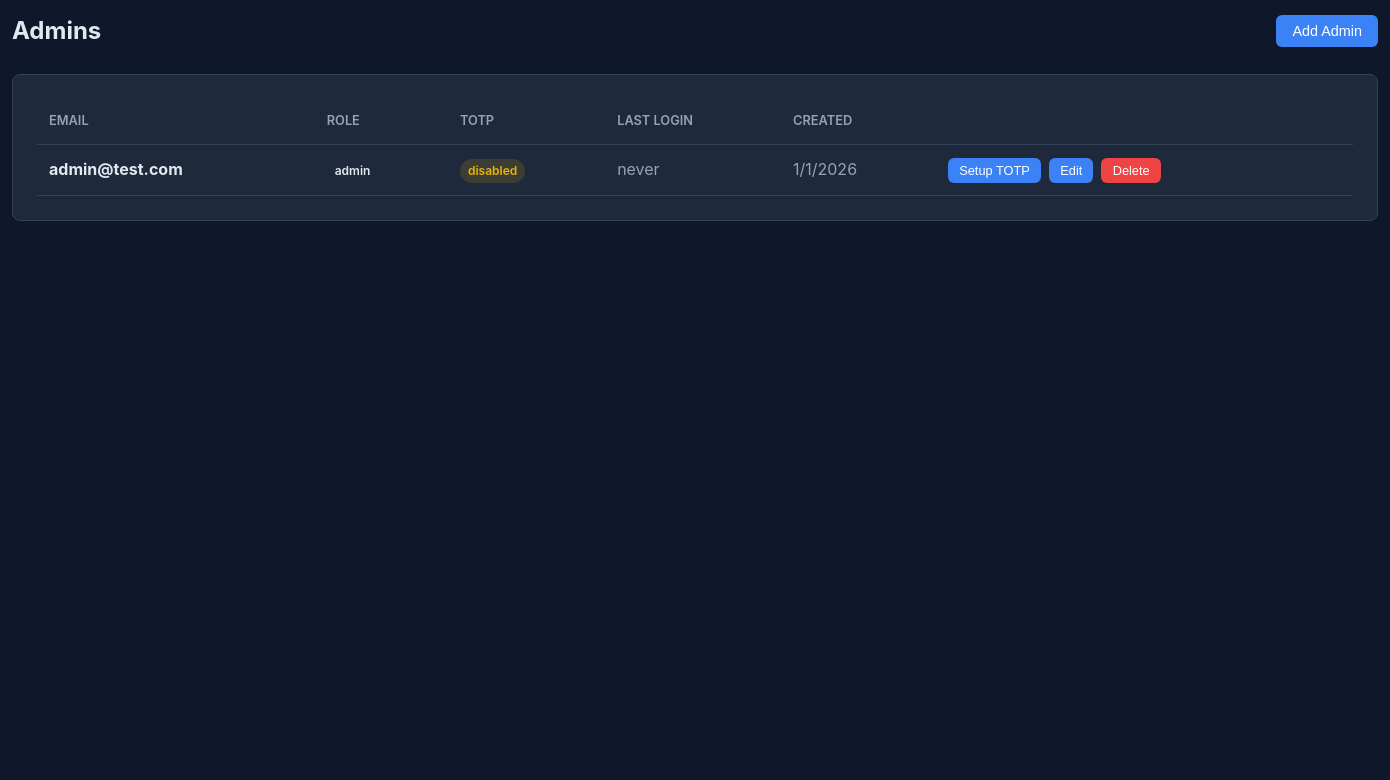
it: AdminsPage › copy button writes password to clipboard and shows feedback
Check: the text "admin@test.com" is shown, box [49,159,183,179]
Click the button "Edit": [1071, 170] box [1049,158,1093,183]
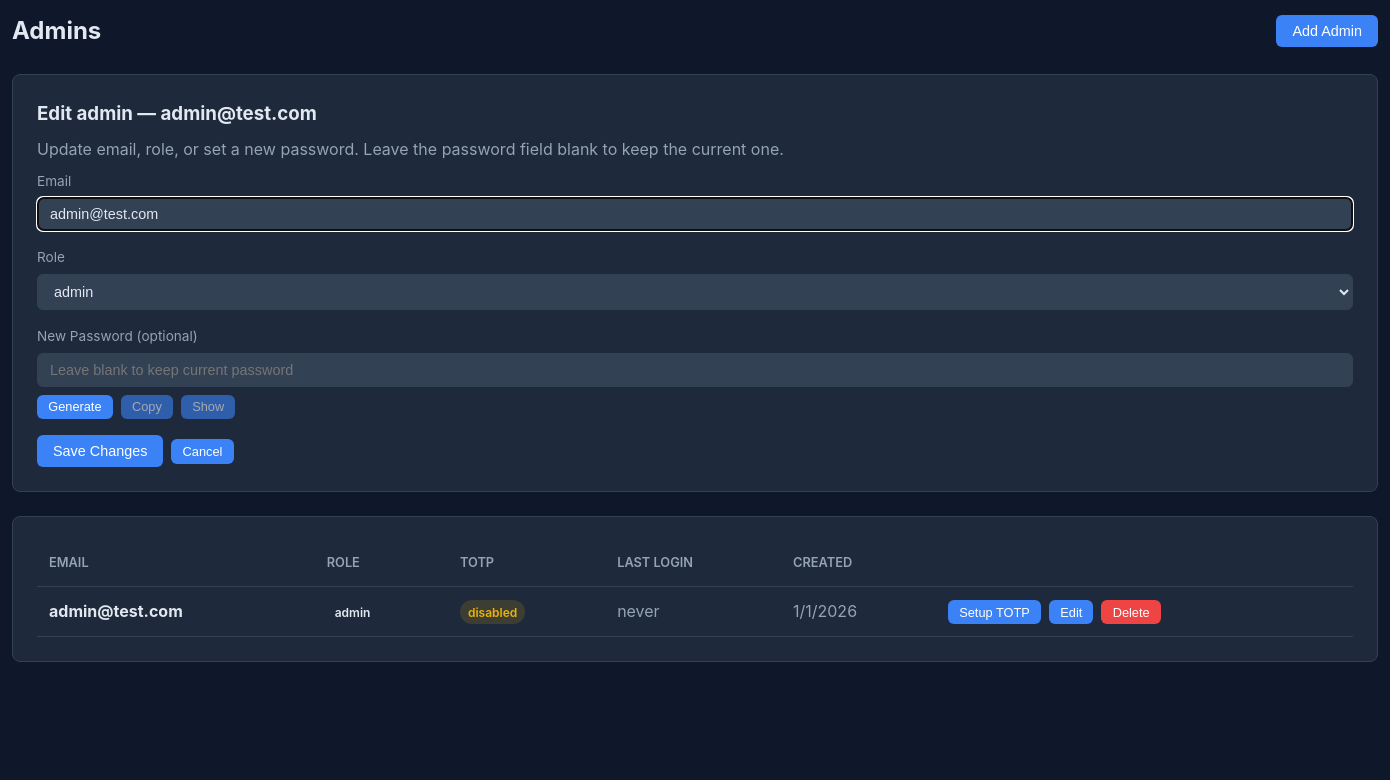
Click the button "Generate": [75, 407] box [37,395,113,419]
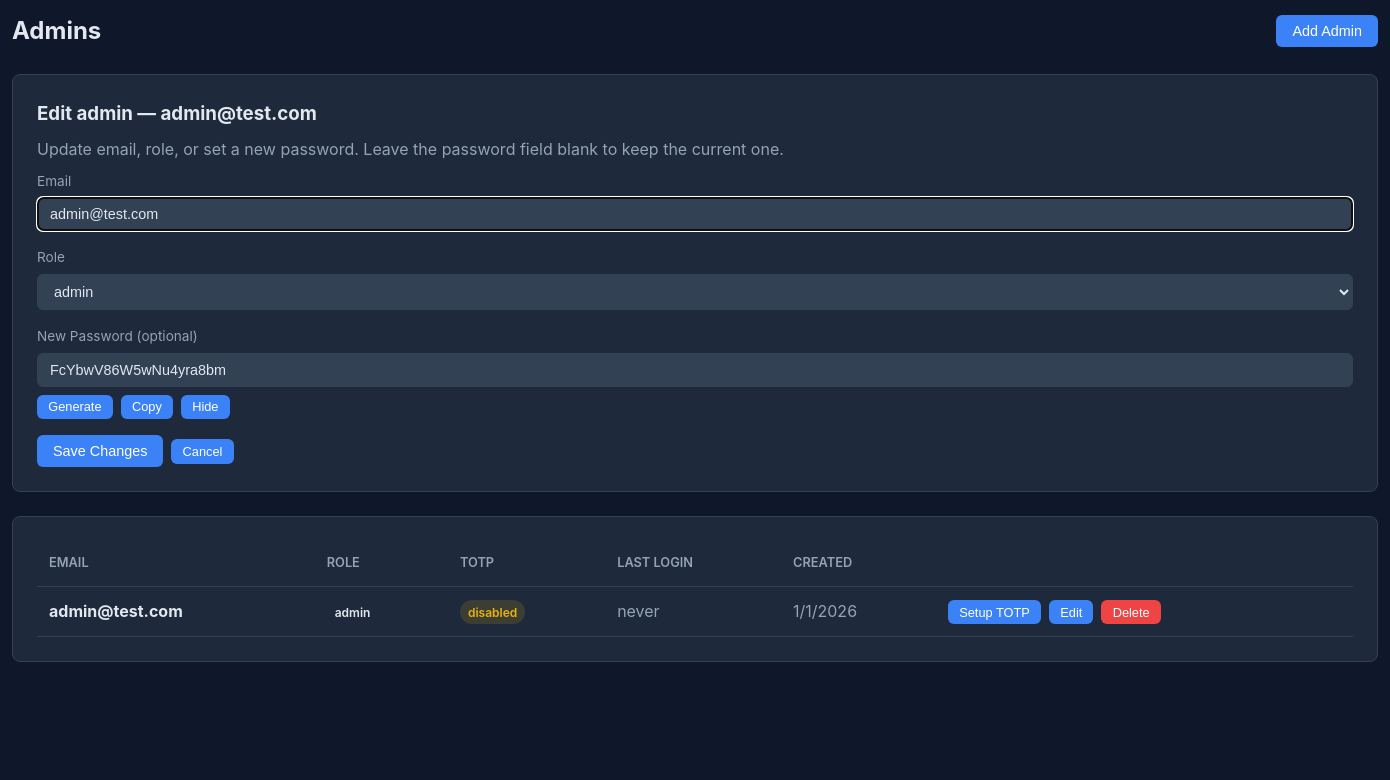
Click the button "Copy": [147, 407] box [121,395,173,419]
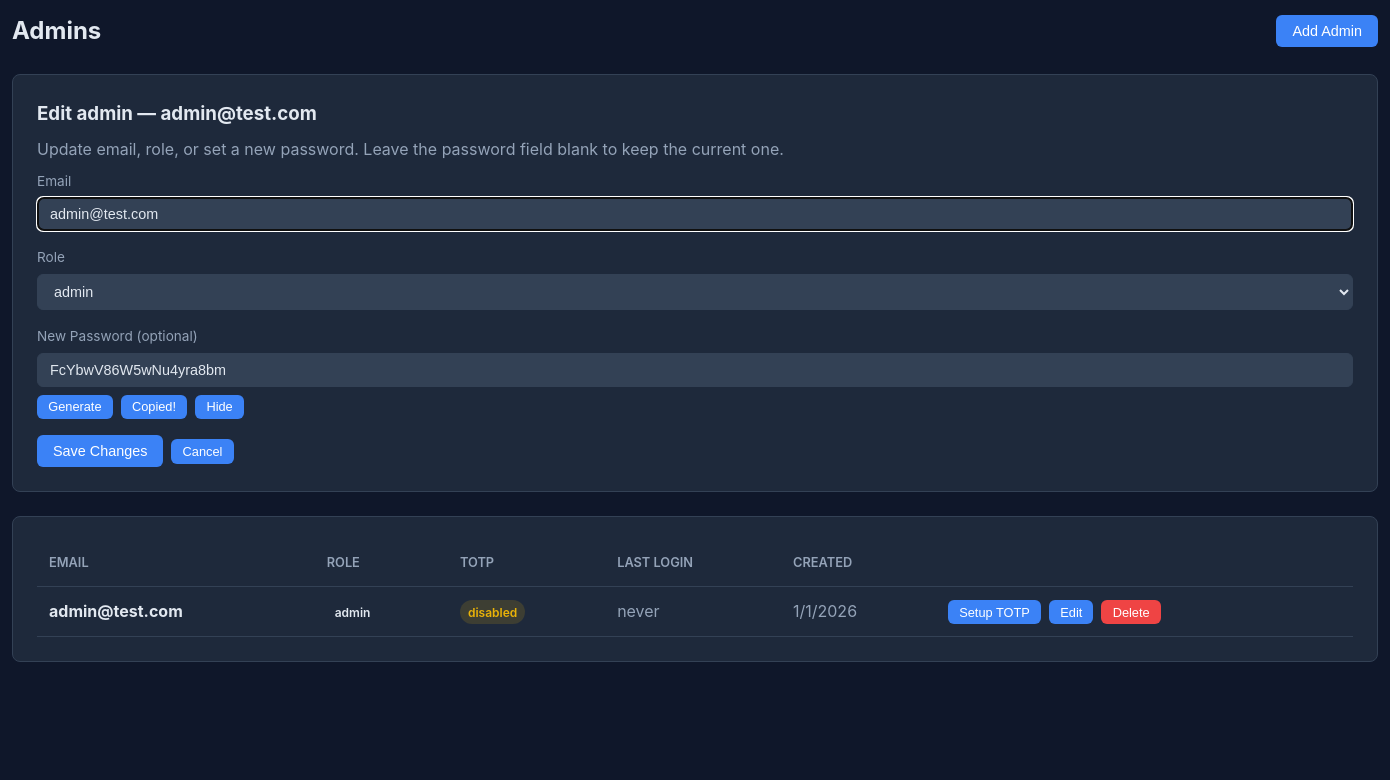
Check: the button "Copied!" is shown, box [121,395,187,419]
